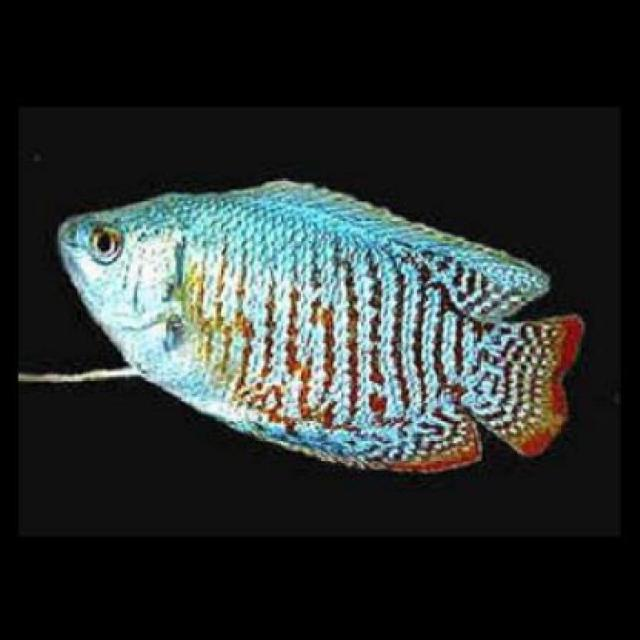Gourami: (49, 163, 592, 480)
